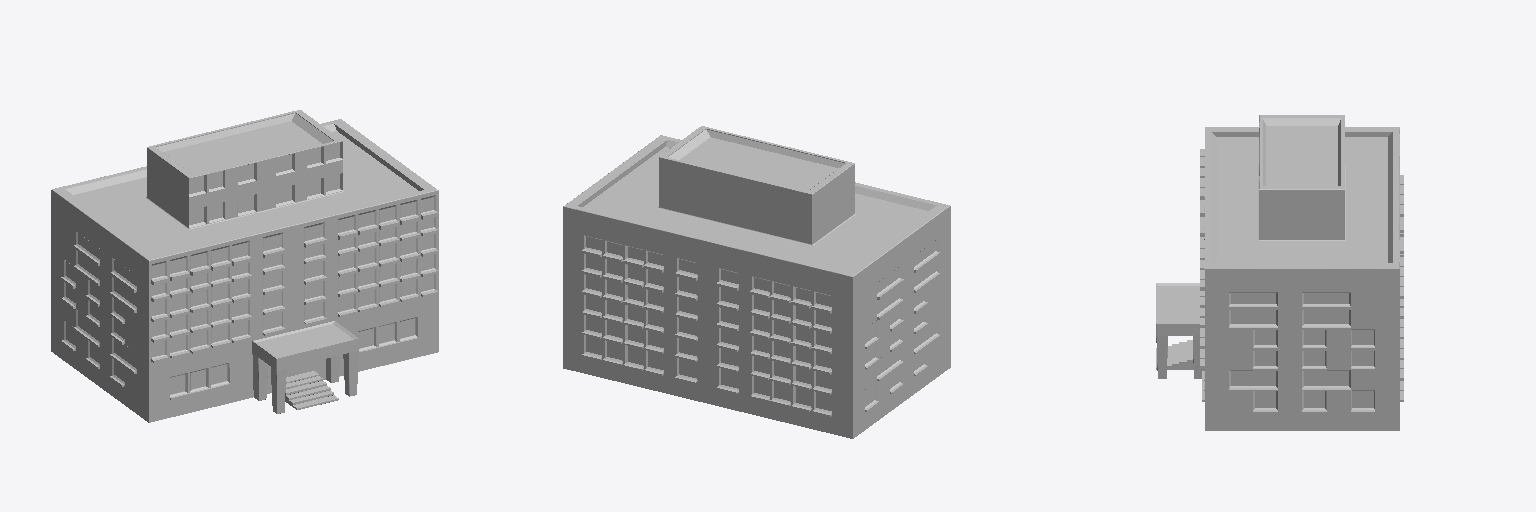
File: hospital.obj
The picture shows the model from 3 angles: view 1: azimuth 30°, elevation 25°; view 2: azimuth 150°, elevation 25°; view 3: azimuth 270°, elevation 25°; orthographic projection.
Visible parts, largest first — view 1: pCube5; view 2: pCube5; view 3: pCube5.
Boxes of the visible parts, <box> form: pCube5: <box>51,110,438,422</box>; pCube5: <box>563,126,950,438</box>; pCube5: <box>1156,115,1403,430</box>.
Size of the model in its own units: 1754 by 1185 by 1281.